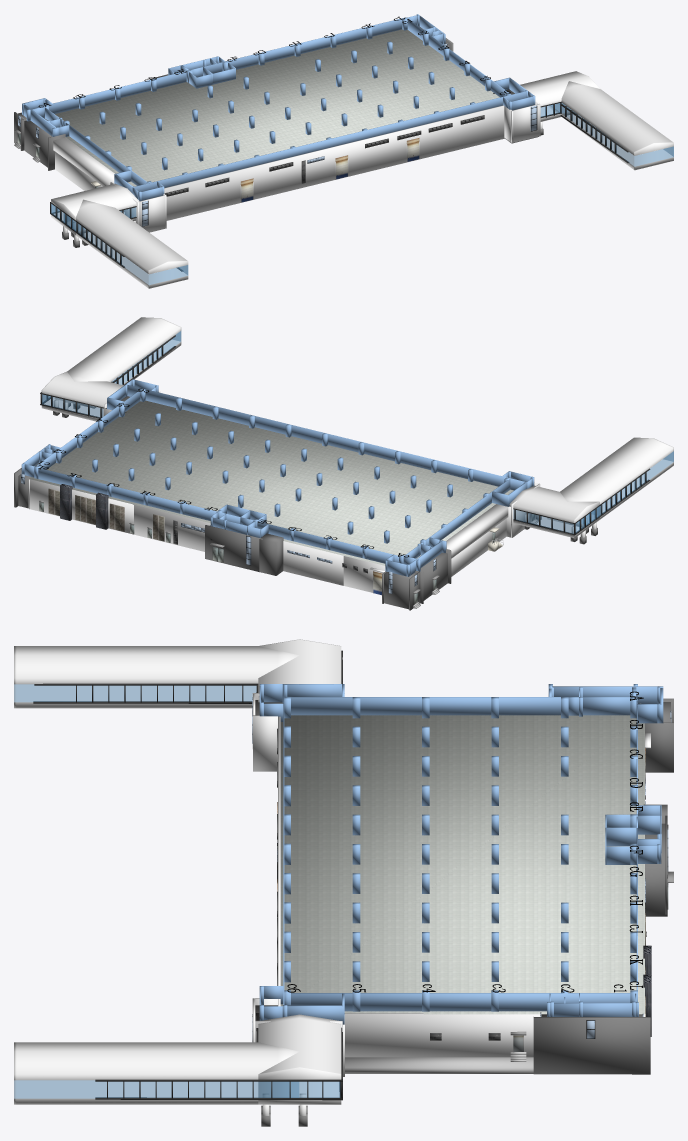
File: cup_3f_mini.gltf
The picture shows the model from 3 angles, top to bottom: view 1: azimuth 30°, elevation 25°; view 2: azimuth 150°, elevation 25°; view 3: azimuth 270°, elevation 25°; orthographic projection. The views are drawn at different scales.
Parts seen in each view (by area): view 1: cup_dimian_25f, cup_waiguan_25_4, cup_waiguan_25_224, cup_waiguan_25_169, cup_qiang_25f_91, cup_waiguan_25_242, cup_qiang_25f_34, cup_waiguan_25_187, cup_qiang_25f_110, cup_waiguan_25_8, cup_qiang_25f_65, cup_qiang_25f_108 (+4 smaller); view 2: cup_dimian_25f, cup_waiguan_25_224, cup_waiguan_25_169, cup_qiang_25f_91, cup_waiguan_25_56, cup_waiguan_25_242, cup_waiguan_25_187, cup_qiang_25f_34, cup_waiguan_25_48, cup_qiang_25f_110, cup_waiguan_25_8, cup_waiguan_25_55 (+10 smaller); view 3: cup_dimian_25f, cup_waiguan_25_169, cup_waiguan_25_224, cup_waiguan_25_19, cup_waiguan_25_18, cup_waiguan_25_187, cup_qiang_25f_65, cup_qiang_25f_108, cup_waiguan_25_34, cup_waiguan_25_242, cup_waiguan_25_32, cup_waiguan_25_3 (+8 smaller).
Boxes of the visible parts, x1,y1,x2,y2 form: cup_dimian_25f: (44, 29, 499, 186); cup_waiguan_25_4: (164, 105, 504, 220); cup_waiguan_25_224: (64, 199, 188, 288); cup_waiguan_25_169: (549, 81, 673, 170); cup_qiang_25f_91: (133, 91, 526, 191); cup_waiguan_25_242: (51, 183, 139, 235); cup_qiang_25f_34: (203, 18, 402, 73); cup_waiguan_25_187: (520, 71, 600, 121); cup_qiang_25f_110: (47, 71, 186, 113); cup_waiguan_25_8: (53, 137, 114, 186); cup_qiang_25f_65: (407, 19, 508, 97); cup_qiang_25f_108: (65, 123, 147, 185); cup_dimian_25f: (29, 400, 513, 565); cup_waiguan_25_224: (547, 437, 673, 527); cup_waiguan_25_169: (54, 317, 181, 408); cup_qiang_25f_91: (127, 385, 526, 490); cup_waiguan_25_56: (133, 504, 343, 585); cup_waiguan_25_242: (509, 485, 599, 538); cup_waiguan_25_187: (41, 371, 123, 421); cup_qiang_25f_34: (38, 468, 239, 523); cup_waiguan_25_48: (205, 525, 262, 570); cup_qiang_25f_110: (257, 521, 398, 563); cup_waiguan_25_8: (446, 504, 508, 558); cup_waiguan_25_55: (29, 479, 133, 534); cup_dimian_25f: (280, 715, 644, 1014); cup_waiguan_25_169: (14, 1042, 298, 1104); cup_waiguan_25_224: (14, 646, 298, 708); cup_waiguan_25_19: (344, 1013, 645, 1057); cup_waiguan_25_18: (533, 1017, 650, 1074); cup_waiguan_25_187: (258, 1014, 341, 1104); cup_qiang_25f_65: (291, 993, 630, 1011); cup_qiang_25f_108: (291, 697, 560, 715); cup_waiguan_25_34: (345, 1057, 533, 1073); cup_waiguan_25_242: (258, 639, 341, 702); cup_waiguan_25_32: (645, 722, 673, 772); cup_waiguan_25_3: (253, 715, 277, 771).
Size of the model in its own units: 276 by 20.78 by 179.
24 materials, 11 textured.
